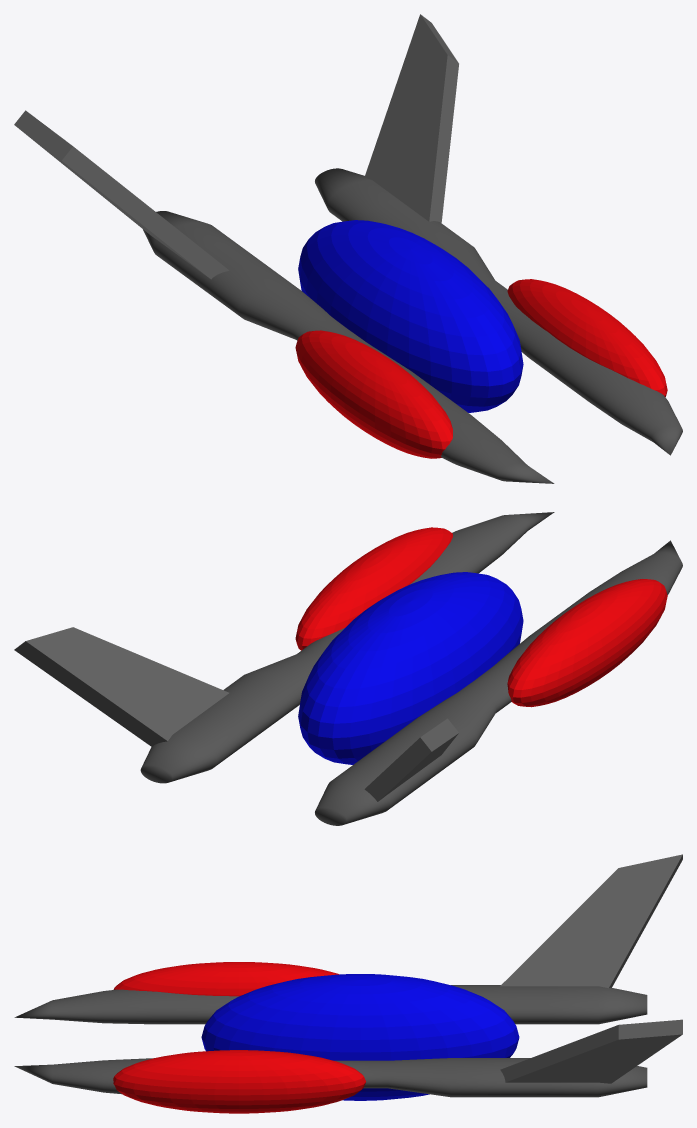
File: twin_body.glb
3 views of the same model, one above another, from view 1: azimuth 30°, elevation 25°; view 2: azimuth 150°, elevation 25°; view 3: azimuth 270°, elevation 25° (orthographic). The views are drawn at different scales.
Visible parts, largest first — view 1: 円柱, コックピット, 球, 平面; view 2: コックピット, 円柱, 球, 平面; view 3: コックピット, 円柱, 球, 平面.
Boxes of the visible parts, box(x1,y1,x2,y2) form: 円柱: box(143, 168, 682, 483); コックピット: box(298, 220, 523, 412); 球: box(295, 279, 667, 458); 平面: box(14, 14, 458, 279); コックピット: box(298, 572, 523, 764); 円柱: box(140, 512, 682, 825); 球: box(295, 527, 667, 707); 平面: box(14, 627, 458, 801); コックピット: box(201, 974, 519, 1100); 円柱: box(14, 985, 647, 1097); 球: box(113, 962, 365, 1113); 平面: box(500, 854, 682, 1083).
Size of the model in its own units: 2.6 by 1.1 by 4.21.
